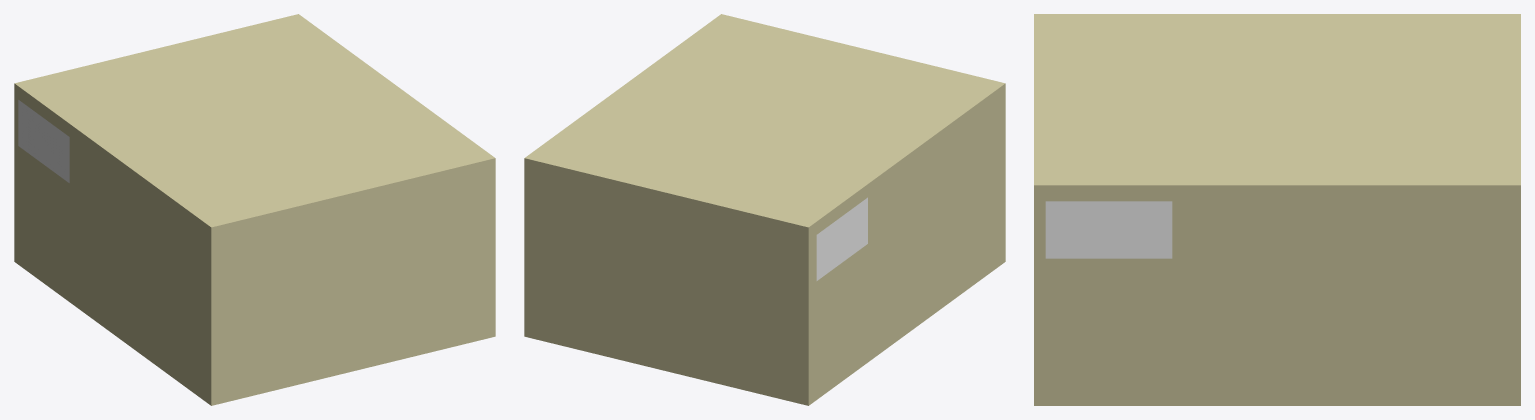
The picture shows the model from 3 angles, left to right: view 1: azimuth 30°, elevation 25°; view 2: azimuth 150°, elevation 25°; view 3: azimuth 270°, elevation 25°; orthographic projection. The views are drawn at different scales.
Parts seen in each view (by area): view 1: SM_Box_01; view 2: SM_Box_01; view 3: SM_Box_01.
Boxes of the visible parts, x1,y1,x2,y2 form: SM_Box_01: [14, 14, 495, 405]; SM_Box_01: [524, 14, 1005, 405]; SM_Box_01: [1034, 14, 1520, 405].
Size of the model in its own units: 50.9 by 30 by 60.
Materials: 1 (1 with a texture image).
